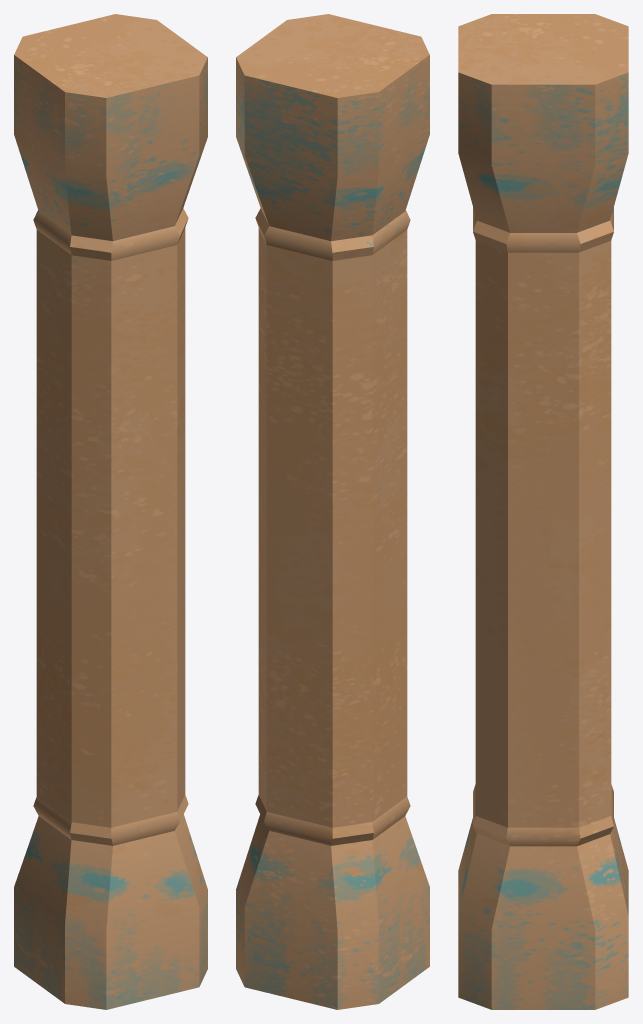
Rendered from SM_pillar.fbx.
3 renders of one model, left to right at view 1: azimuth 30°, elevation 25°; view 2: azimuth 150°, elevation 25°; view 3: azimuth 270°, elevation 25°, orthographic.
Parts seen in each view (by area): view 1: pillar; view 2: pillar; view 3: pillar.
Part boxes in pixels (box(x1,y1,x2,y2)): pillar: box(14, 14, 207, 1009); pillar: box(236, 14, 429, 1009); pillar: box(458, 14, 628, 1009).
Size of the model in its own units: 9.5 by 57.98 by 9.67.
